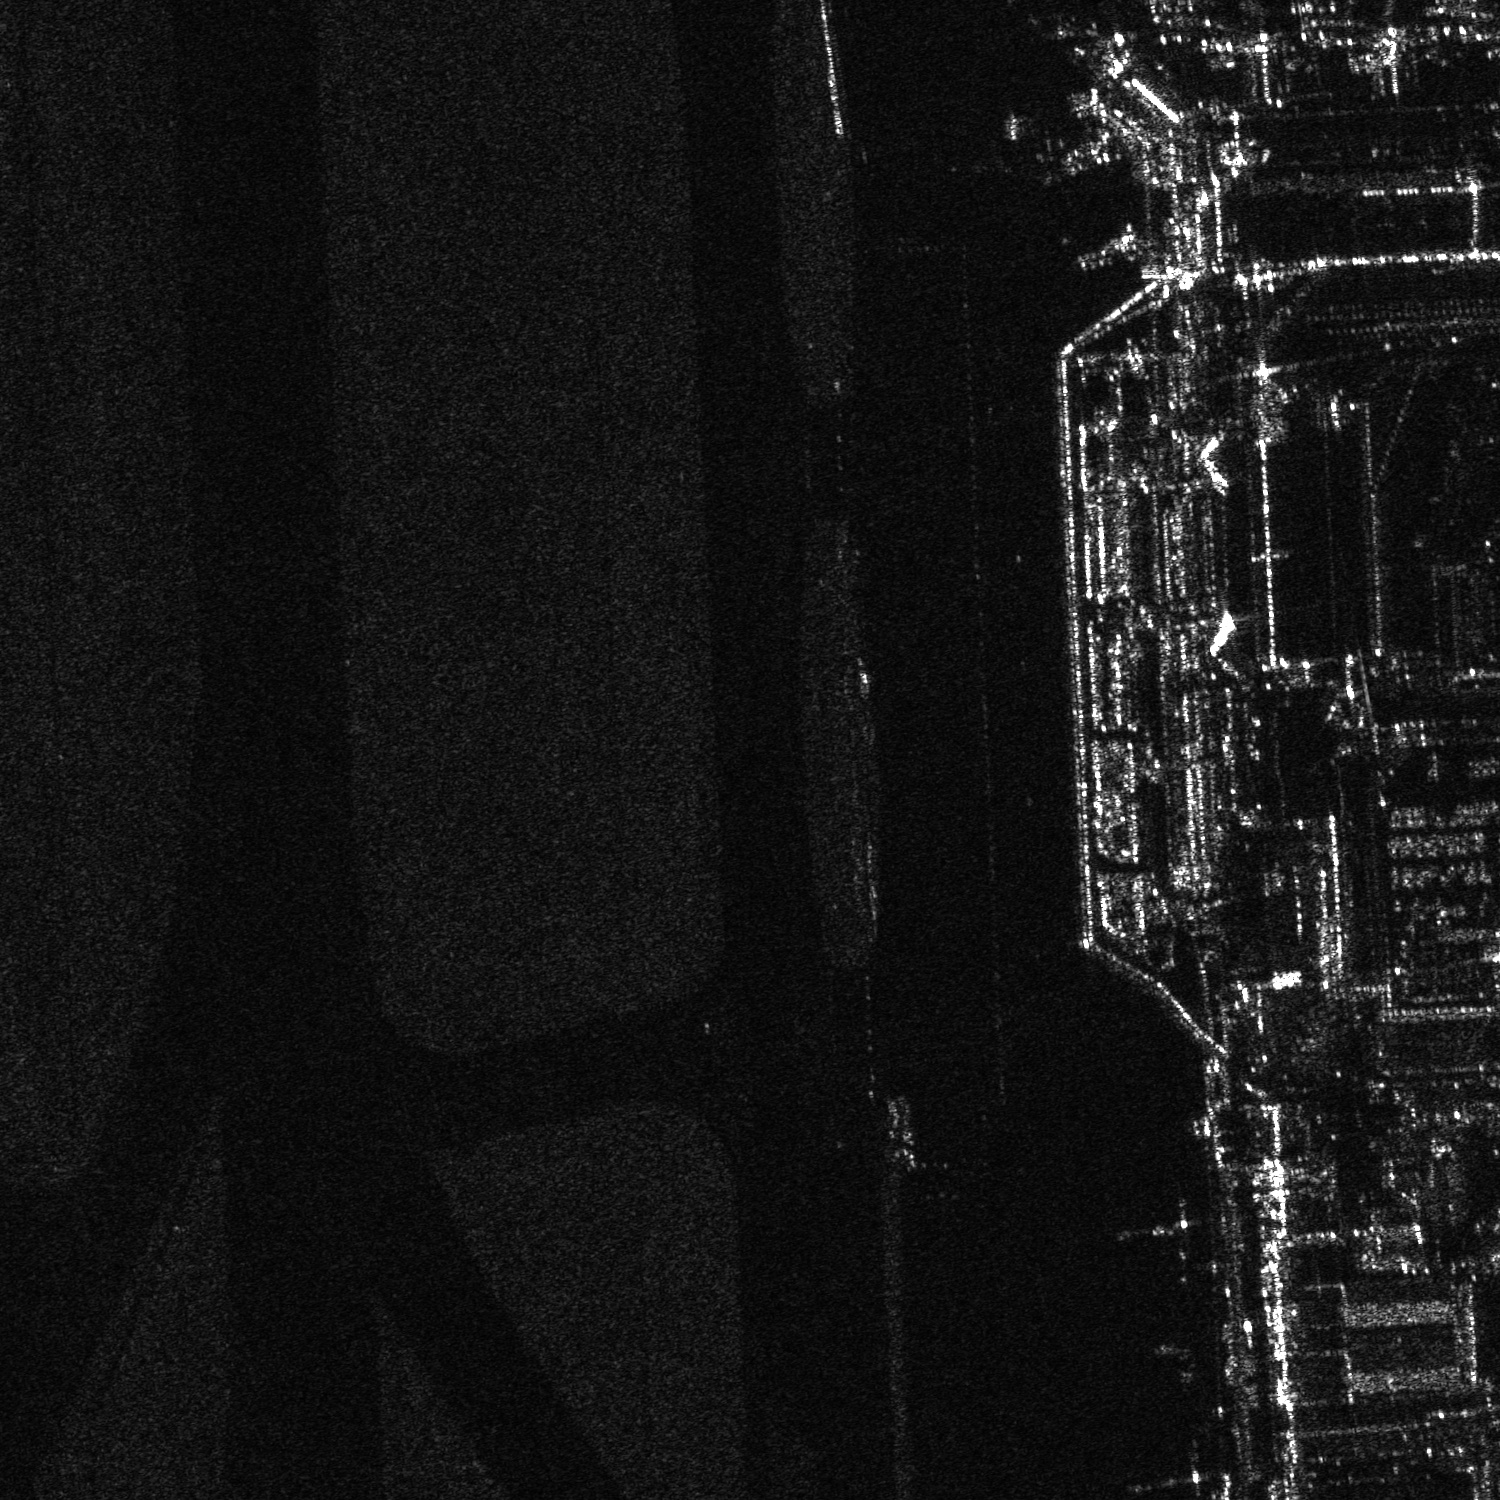A320/321: (1129, 1441, 1218, 1499)
other: (1111, 1184, 1213, 1282)
